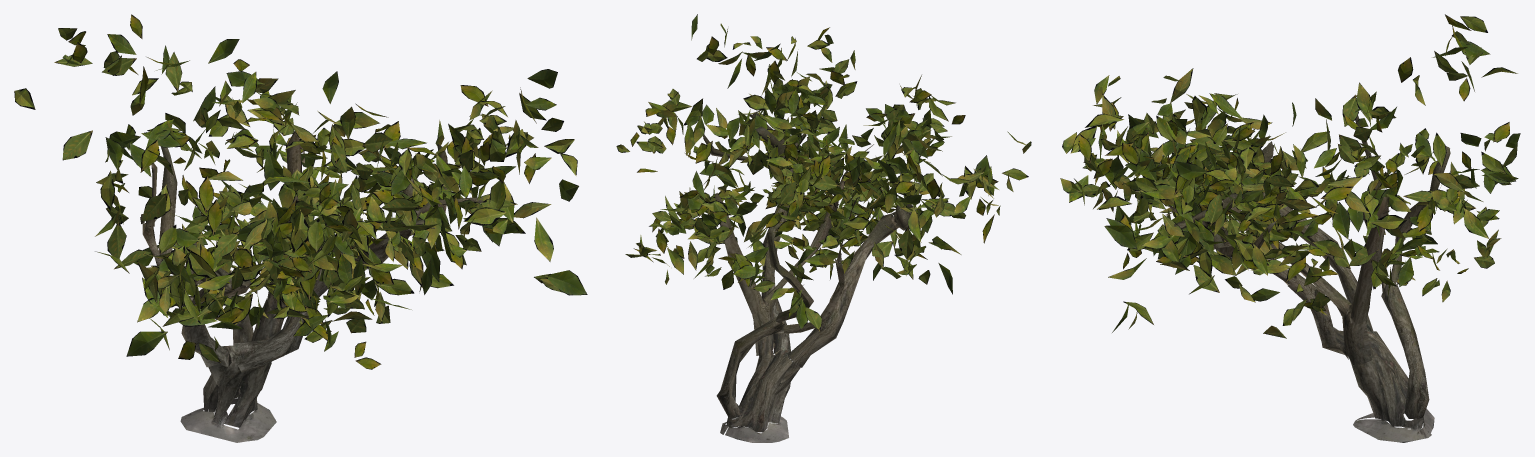
File: river-tree-far.glb
3 renders of one model, left to right at view 1: azimuth 30°, elevation 25°; view 2: azimuth 150°, elevation 25°; view 3: azimuth 270°, elevation 25°, orthographic. The views are drawn at different scales.
Parts seen in each view (by area): view 1: island_tree_02_LOD0.002, island_tree_02_LOD0.001; view 2: island_tree_02_LOD0.002, island_tree_02_LOD0.001; view 3: island_tree_02_LOD0.002, island_tree_02_LOD0.001.
Part boxes in pixels (bbox=[...]): island_tree_02_LOD0.002: bbox=[14, 14, 587, 369]; island_tree_02_LOD0.001: bbox=[140, 131, 483, 442]; island_tree_02_LOD0.002: bbox=[616, 14, 1031, 331]; island_tree_02_LOD0.001: bbox=[703, 112, 913, 442]; island_tree_02_LOD0.002: bbox=[1060, 14, 1520, 338]; island_tree_02_LOD0.001: bbox=[1135, 115, 1450, 442].
Bounding box in the file's own units: 4.05 × 3.43 × 3.96.
Materials: 2 (2 with a texture image).
